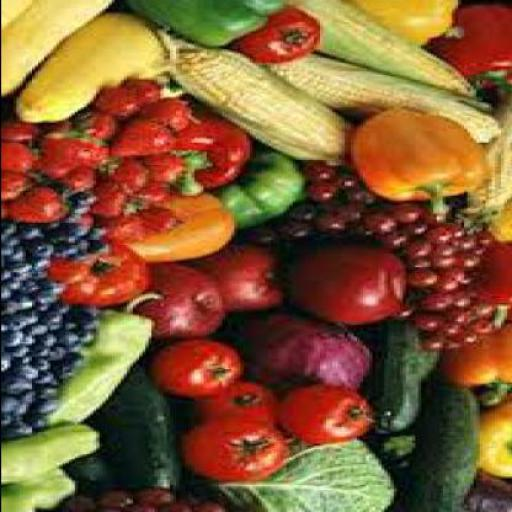biodegradable: (162, 36, 356, 166), (266, 56, 503, 145), (297, 2, 482, 100), (12, 14, 169, 124), (52, 296, 166, 429), (356, 109, 491, 220), (70, 357, 181, 490), (198, 440, 399, 510), (230, 313, 371, 390), (3, 1, 116, 97), (354, 320, 444, 436), (398, 389, 482, 511), (298, 245, 413, 326), (126, 196, 236, 267), (126, 1, 291, 48), (214, 152, 310, 232), (134, 262, 230, 340), (426, 5, 511, 92), (168, 112, 254, 196), (46, 243, 153, 310), (181, 420, 292, 484), (190, 244, 289, 312), (273, 384, 377, 448), (3, 425, 104, 487), (438, 325, 511, 410), (147, 340, 246, 402), (344, 1, 466, 48), (175, 381, 282, 430), (234, 8, 324, 66), (475, 103, 511, 218), (2, 468, 80, 510), (478, 245, 510, 333), (475, 401, 511, 479), (110, 124, 182, 158), (43, 134, 111, 170), (3, 187, 67, 223), (464, 471, 511, 512), (98, 88, 153, 120), (145, 102, 196, 131), (74, 114, 122, 143), (92, 187, 134, 218), (487, 194, 511, 248), (141, 153, 184, 182), (113, 158, 150, 190), (138, 207, 181, 232), (2, 144, 37, 174), (101, 217, 135, 247), (2, 174, 37, 200), (6, 124, 46, 146), (304, 182, 343, 204), (126, 78, 160, 102), (377, 437, 414, 459), (36, 156, 71, 178), (134, 184, 172, 204), (98, 491, 138, 510), (319, 216, 353, 238), (328, 203, 365, 223), (344, 189, 380, 209), (67, 172, 102, 192), (414, 296, 454, 313), (138, 488, 178, 505), (364, 214, 399, 233), (126, 217, 153, 241), (70, 316, 105, 334), (288, 204, 322, 222), (58, 495, 96, 511), (414, 313, 444, 333), (306, 165, 341, 182), (393, 206, 432, 221), (334, 172, 365, 190), (377, 234, 411, 250), (414, 271, 441, 289), (282, 221, 310, 238), (251, 228, 282, 243), (3, 314, 28, 332), (9, 366, 43, 379), (438, 224, 469, 238), (3, 380, 34, 394), (34, 383, 58, 401), (3, 332, 28, 349), (158, 501, 200, 511), (28, 244, 58, 258), (12, 296, 40, 311), (3, 396, 22, 418), (22, 223, 46, 240), (59, 332, 83, 349), (451, 237, 478, 252), (34, 400, 61, 415), (438, 271, 469, 284), (447, 310, 472, 326), (454, 290, 476, 308), (64, 225, 86, 243), (426, 231, 456, 244), (37, 312, 64, 326), (31, 372, 58, 386), (432, 246, 460, 259), (470, 231, 496, 245), (475, 302, 497, 318), (21, 312, 43, 328), (402, 221, 429, 234), (411, 258, 438, 271), (71, 194, 98, 207), (46, 282, 71, 296), (6, 425, 31, 439), (34, 294, 58, 308), (411, 245, 436, 258), (438, 325, 463, 338), (25, 257, 49, 270), (435, 258, 466, 268), (456, 332, 478, 346), (423, 336, 445, 350), (67, 209, 89, 223), (2, 224, 24, 238), (8, 266, 30, 280), (27, 415, 49, 429), (68, 226, 92, 238), (22, 390, 40, 406), (40, 229, 62, 242), (55, 367, 77, 380), (64, 354, 86, 367), (3, 280, 30, 290), (3, 300, 22, 314), (61, 337, 83, 349), (436, 282, 462, 292), (470, 325, 496, 335), (40, 336, 58, 350), (49, 304, 74, 314), (79, 306, 104, 316), (58, 246, 77, 259), (3, 236, 22, 249), (83, 330, 98, 346), (12, 349, 34, 359), (34, 360, 56, 370), (30, 282, 46, 295), (96, 226, 110, 240), (444, 340, 463, 350), (469, 245, 487, 255), (92, 245, 110, 255), (71, 257, 89, 267), (65, 321, 77, 335), (31, 272, 49, 281), (3, 358, 15, 371), (18, 405, 31, 417), (3, 252, 22, 260), (77, 240, 92, 250), (52, 350, 67, 360), (2, 289, 12, 303), (68, 350, 82, 359), (469, 260, 481, 269), (16, 359, 30, 366), (134, 507, 158, 511), (24, 337, 34, 345)
